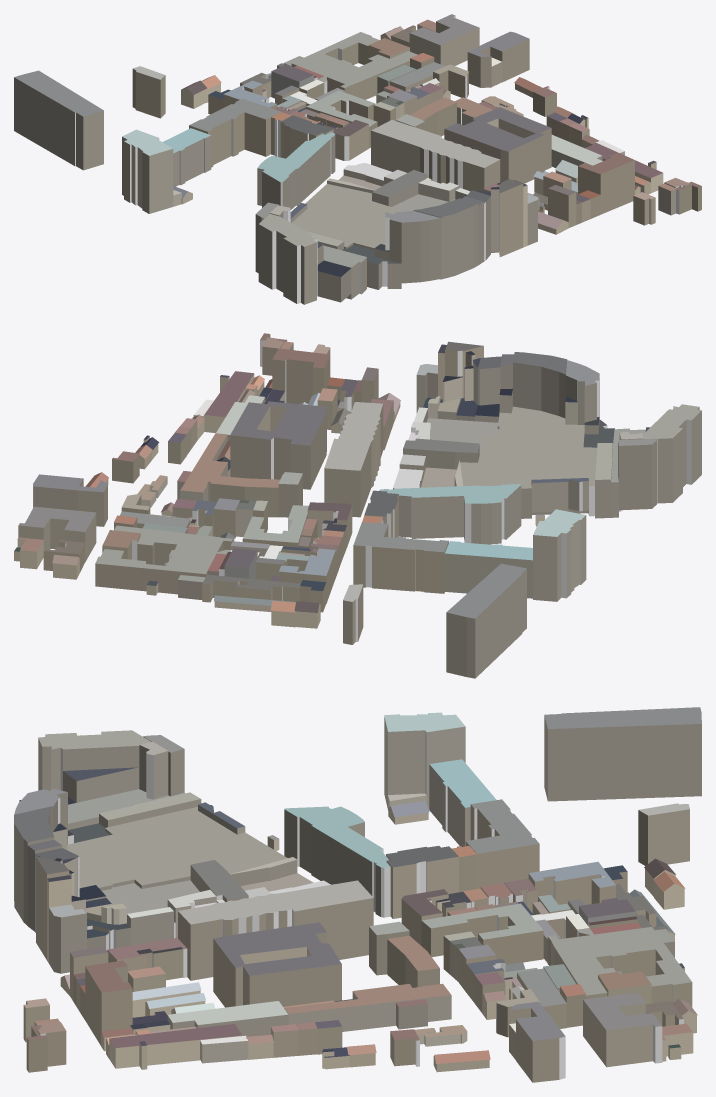
3 views of the same model, one above another, from view 1: azimuth 30°, elevation 25°; view 2: azimuth 150°, elevation 25°; view 3: azimuth 270°, elevation 25° (orthographic). The views are drawn at different scales.
Visible parts, largest first — view 1: tuile; view 2: tuile; view 3: tuile.
Part boxes in pixels (bbox=[...]): tuile: bbox=[14, 14, 701, 304]; tuile: bbox=[14, 333, 701, 678]; tuile: bbox=[14, 707, 701, 1082].
Bounding box in the file's own units: 271 × 43.62 × 264.
